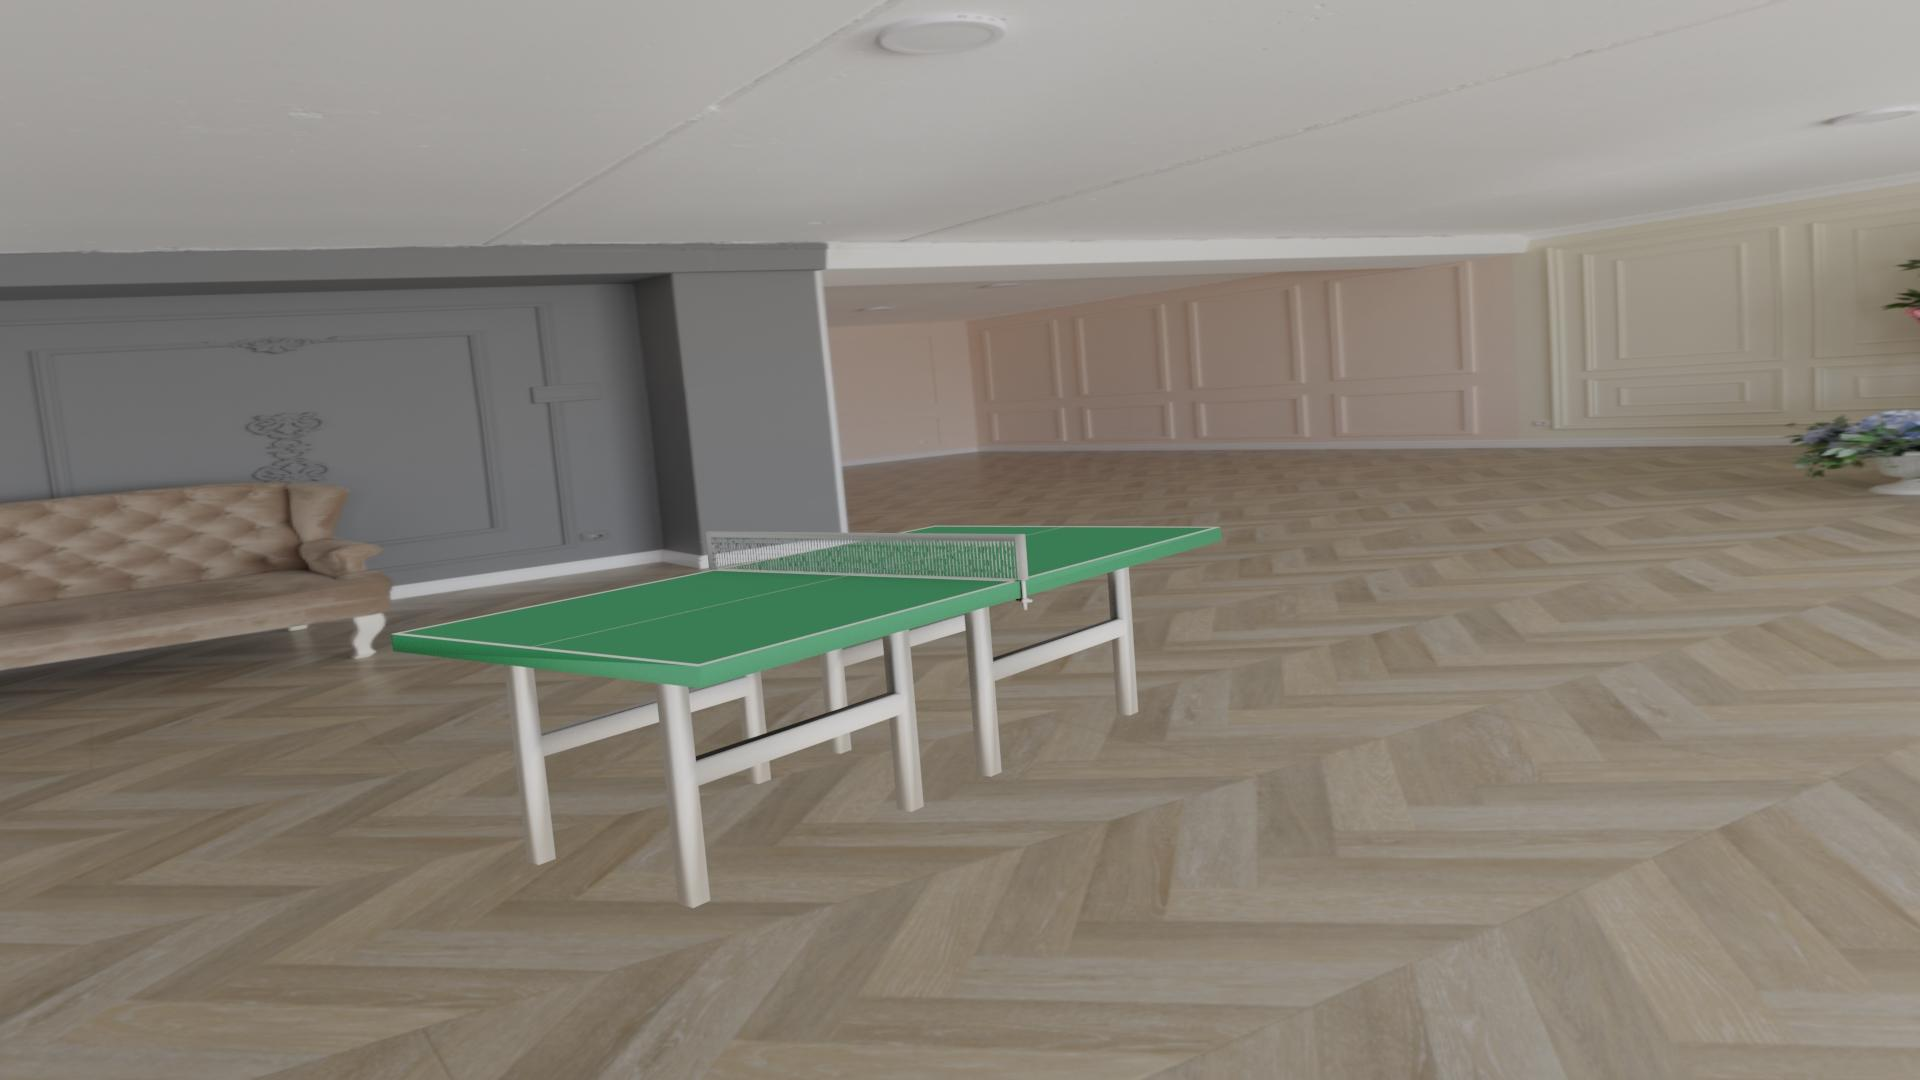table: (400, 526, 1215, 665)
